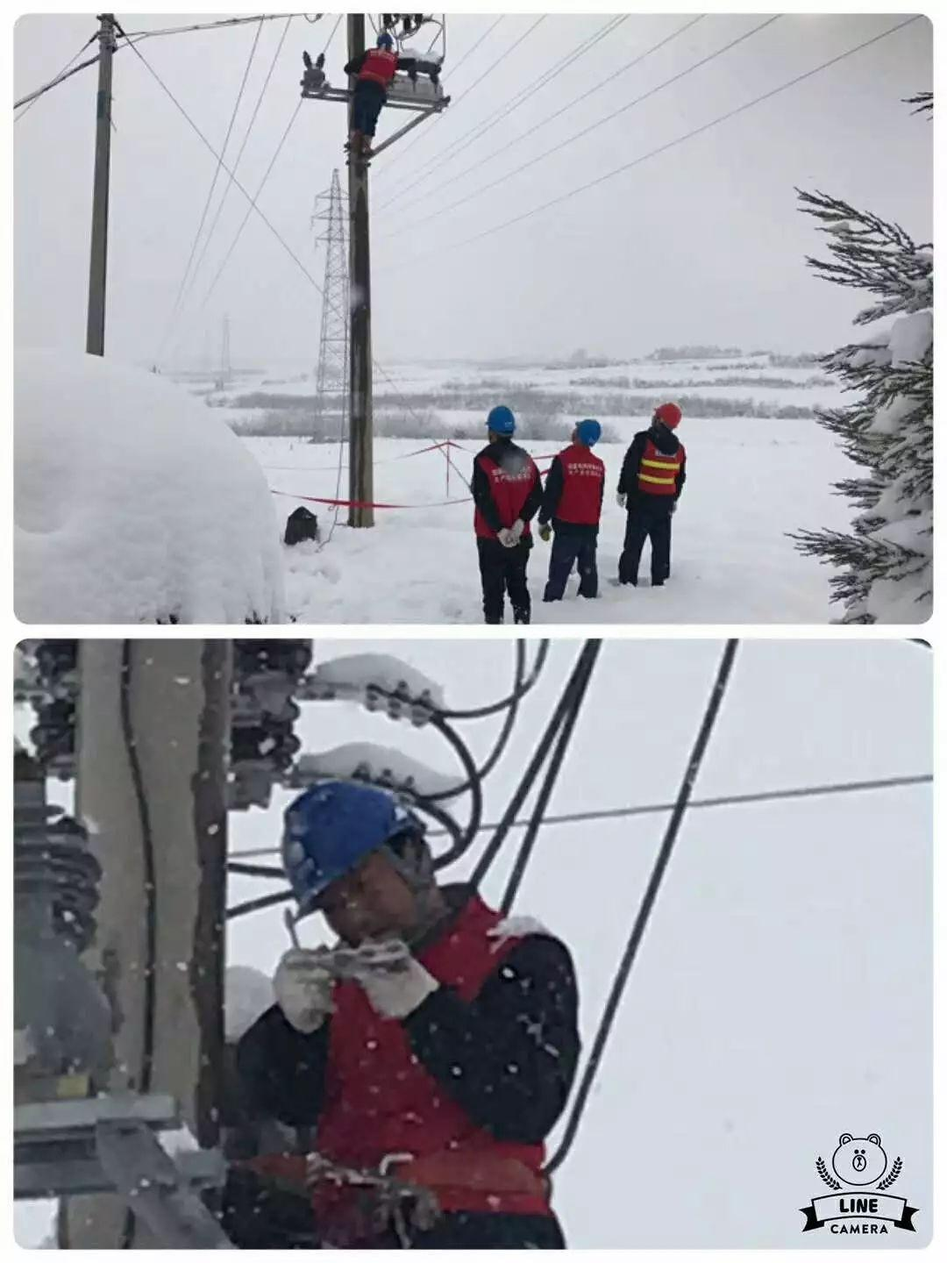Helmet: (281, 780, 435, 937)
Vest: (625, 432, 686, 503)
